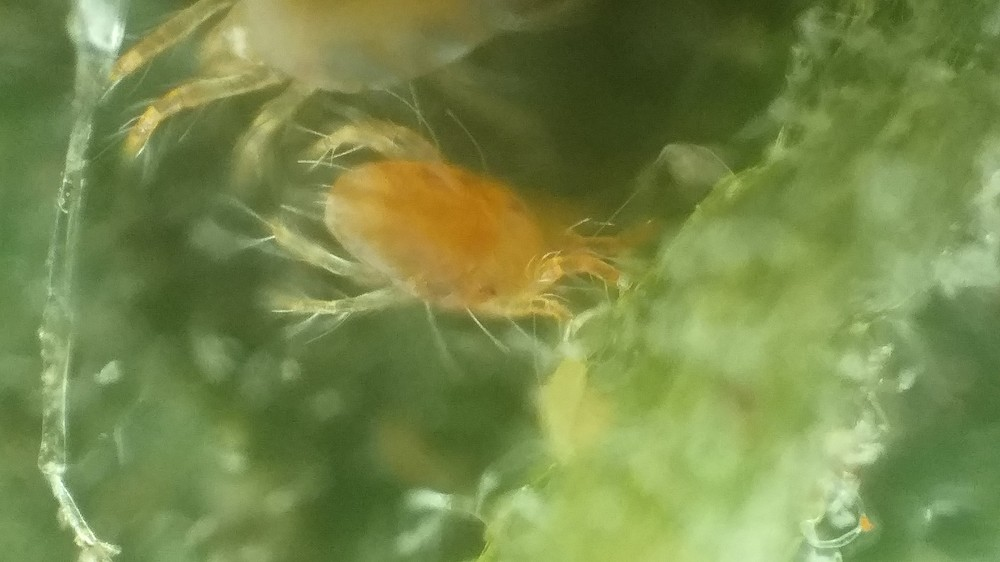Aracnido Rojo: (265, 111, 692, 370), (99, 6, 624, 176)
